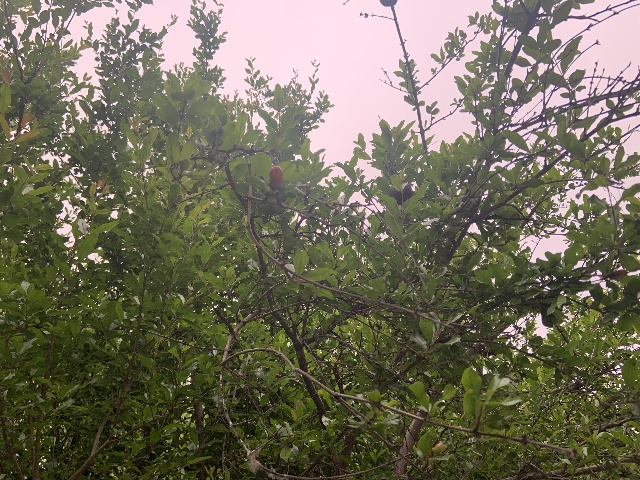bud: (269, 165, 283, 189)
